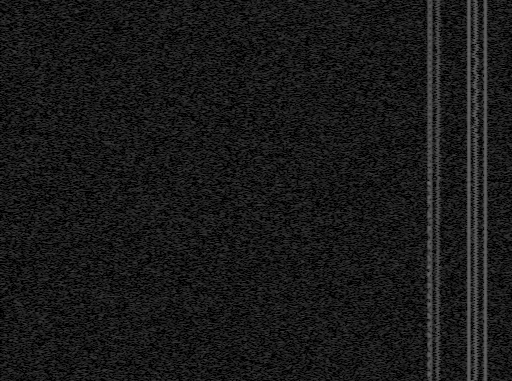wv_am: (428, 0, 434, 381), (466, 0, 472, 381), (481, 0, 486, 381), (426, 0, 432, 193), (426, 272, 432, 381), (426, 194, 432, 271)
wv_cw: (483, 0, 488, 381)
wv_lsb: (301, 319, 305, 336), (301, 227, 305, 239), (301, 62, 305, 67), (300, 314, 305, 318), (301, 268, 305, 273), (301, 250, 305, 255), (301, 245, 305, 249), (301, 240, 305, 244), (301, 337, 305, 341), (301, 260, 305, 264), (301, 256, 305, 259)
wv_wbfm: (470, 0, 481, 381), (433, 0, 443, 381)
